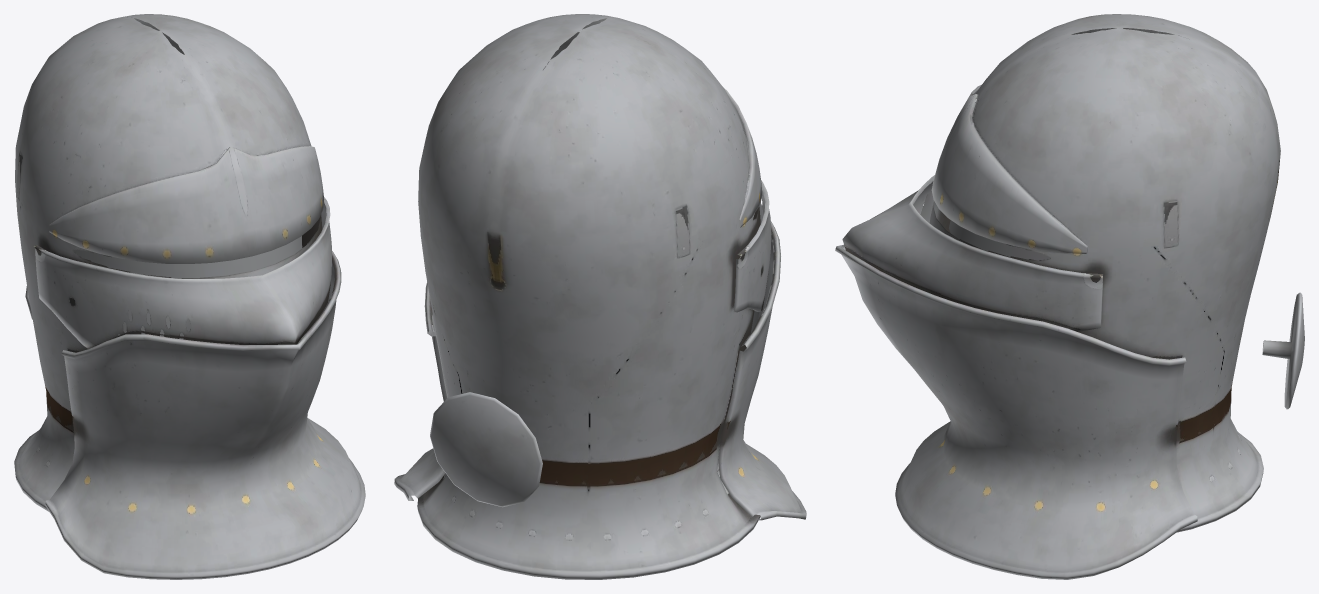
The model's file is armet.glb.
The picture shows the model from 3 angles, left to right: view 1: azimuth 30°, elevation 25°; view 2: azimuth 150°, elevation 25°; view 3: azimuth 270°, elevation 25°; orthographic projection. The views are drawn at different scales.
Visible parts, largest first — view 1: helm_armet, visor; view 2: helm_armet, visor; view 3: helm_armet, visor.
Part boxes in pixels (box(x1,y1,x2,y2)): helm_armet: box(14, 14, 365, 579); visor: box(33, 197, 331, 348); helm_armet: box(394, 14, 806, 579); visor: box(734, 180, 771, 312); helm_armet: box(835, 14, 1304, 579); visor: box(842, 175, 1103, 331).
Size of the model in its own units: 0.2956 by 0.4139 by 0.3742.
1 material, 1 textured.
